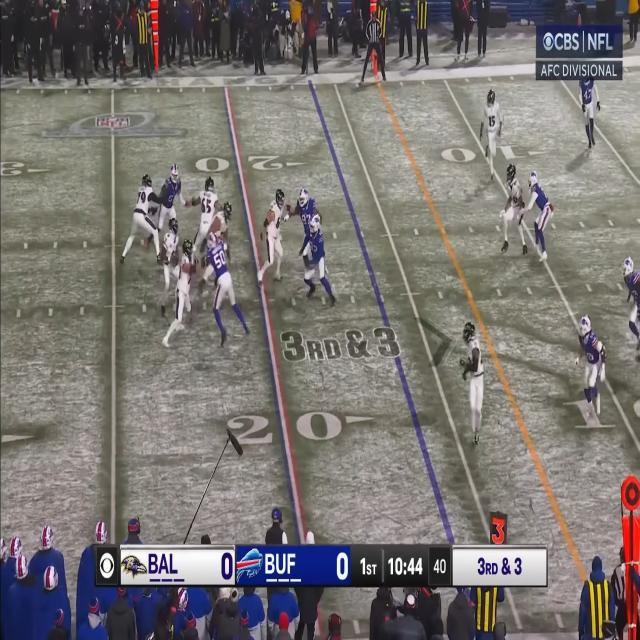Ball: (170, 249, 180, 266)
